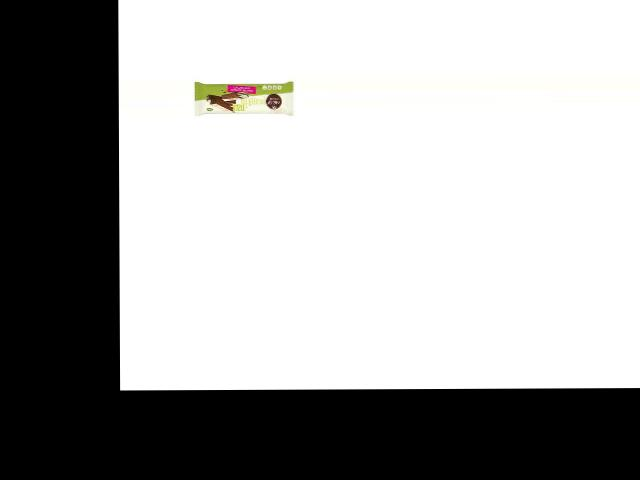chocolate: (192, 77, 293, 118)
